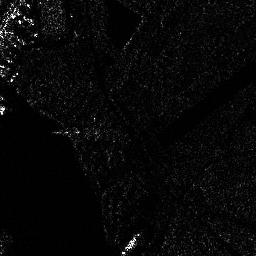ship: (120, 231, 140, 256)
